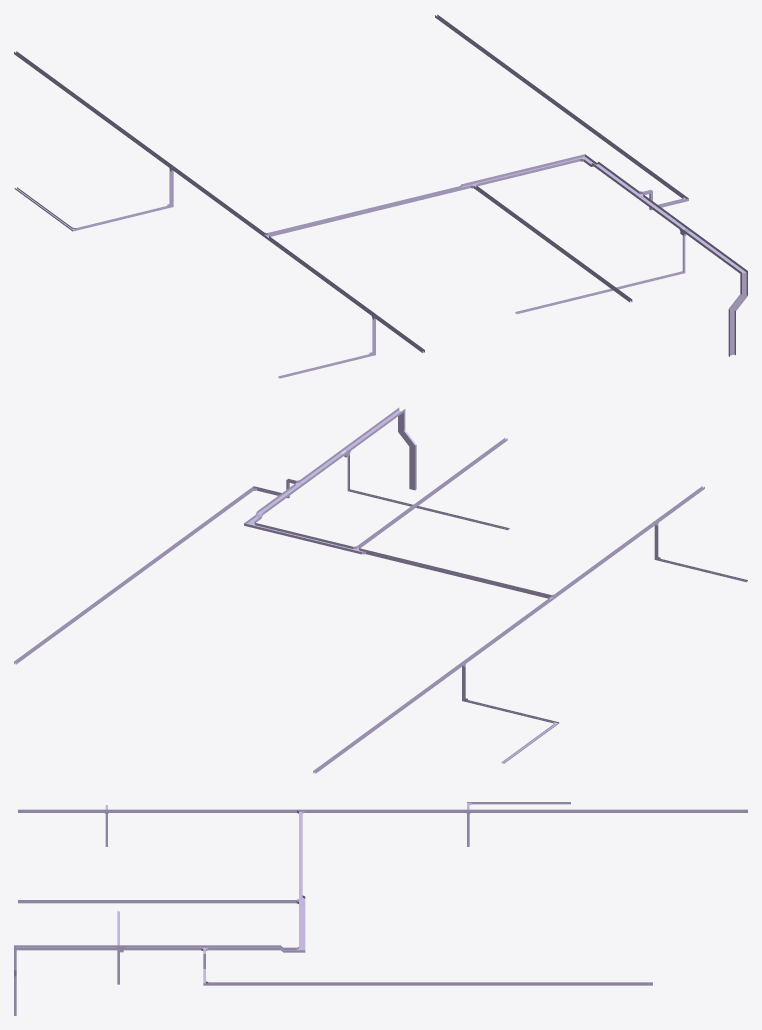
3 renders of one model, top to bottom at view 1: azimuth 30°, elevation 25°; view 2: azimuth 150°, elevation 25°; view 3: azimuth 270°, elevation 25°, orthographic. The views are drawn at different scales.
Visible parts, largest first — view 1: L3-S-37EF1, L3-S-37C1C, L3-S-37C6F, L3-S-37C20, L3-S-37C1A; view 2: L3-S-37EF1, L3-S-37C1C, L3-S-37C6F, L3-S-37C20; view 3: L3-S-37EF1, L3-S-37C6F, L3-S-37C20, L3-S-37BE6, L3-S-37C1F, L3-S-37C73, L3-S-37C72, L3-S-37EFB.
Part boxes in pixels (left/top/right/bottom): L3-S-37EF1: left=435, top=14, right=684, bottom=197; L3-S-37C1C: left=270, top=186, right=459, bottom=236; L3-S-37C6F: left=475, top=186, right=632, bottom=302; L3-S-37C20: left=14, top=51, right=169, bottom=166; L3-S-37C1A: left=477, top=157, right=575, bottom=185; L3-S-37EF1: left=14, top=489, right=251, bottom=664; L3-S-37C1C: left=368, top=551, right=548, bottom=597; L3-S-37C6F: left=357, top=438, right=507, bottom=548; L3-S-37C20: left=313, top=664, right=462, bottom=773; L3-S-37EF1: left=211, top=982, right=652, bottom=985; L3-S-37C6F: left=18, top=900, right=294, bottom=903; L3-S-37C20: left=473, top=809, right=747, bottom=812; L3-S-37BE6: left=111, top=809, right=294, bottom=812; L3-S-37C1F: left=306, top=809, right=463, bottom=812; L3-S-37C73: left=22, top=945, right=113, bottom=950; L3-S-37C72: left=127, top=945, right=197, bottom=950; L3-S-37EFB: left=211, top=945, right=279, bottom=950.
Size of the model in its own units: 38.36 by 6.4 by 58.26.
